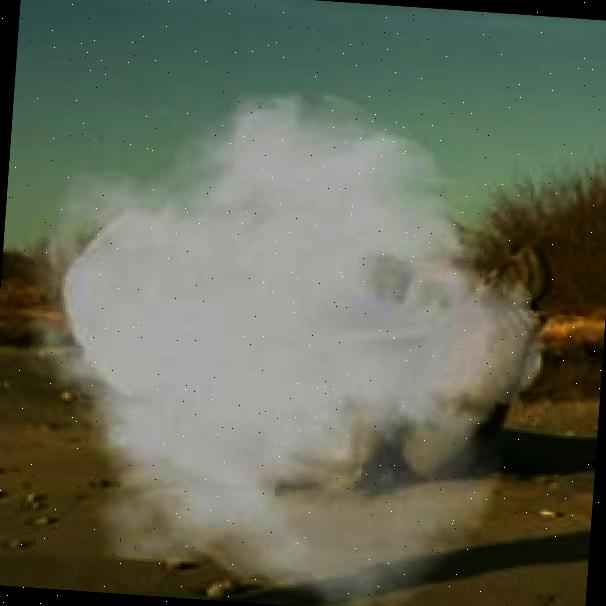smoke: (0, 65, 562, 606)
